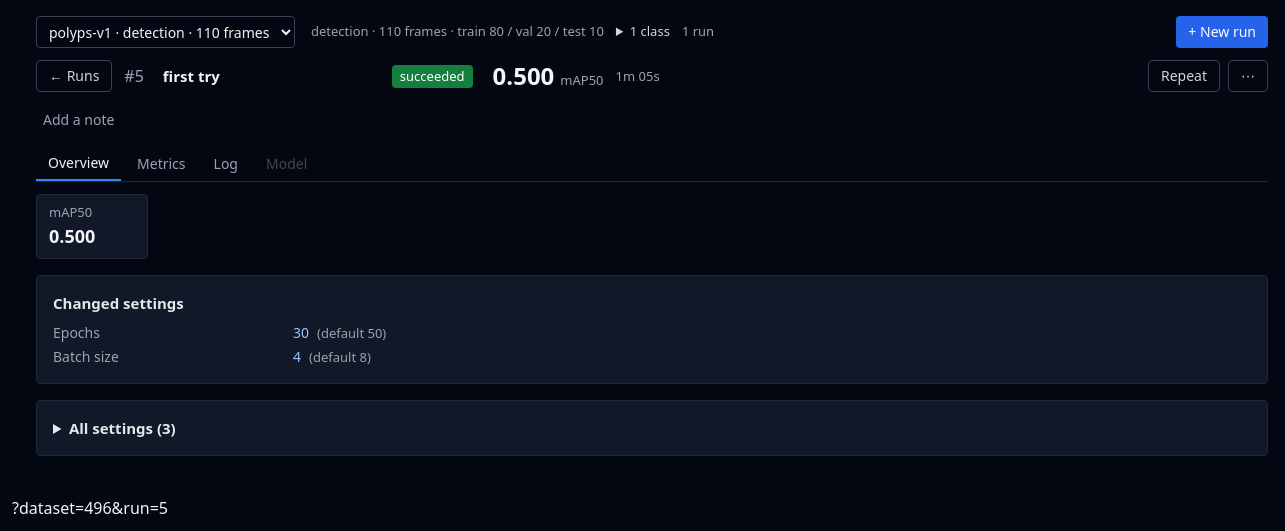
it: TrainPage › deleting a run › deleting the open run clears it from the URL
What coordinates should you click on to do the following:
click the button named "More actions"
I would click on:
 (1248, 76)
Its box is [1228,60,1268,92].
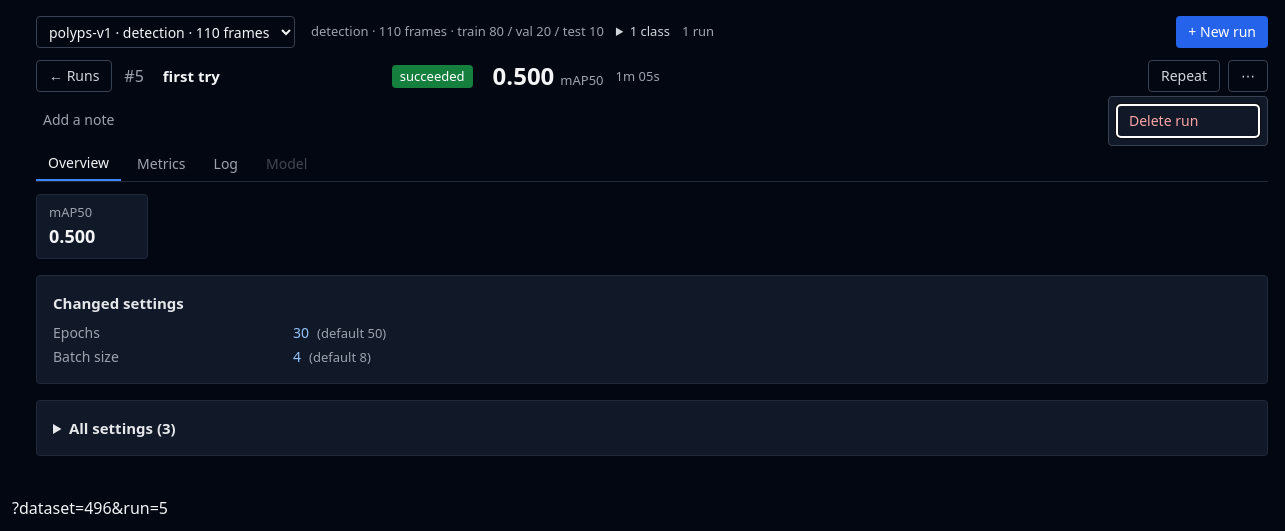
What coordinates should you click on to do the following:
click the menu item with aria-label "Delete run #5"
I would click on:
 (1188, 121)
Its box is [1117,105,1259,137].
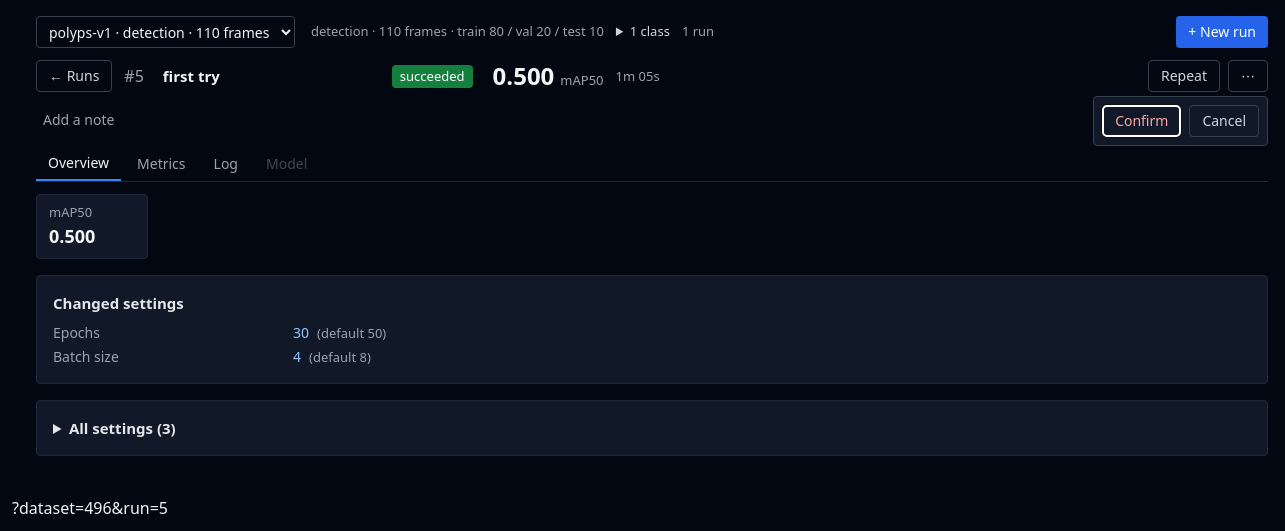
What coordinates should you click on to do the following:
click the menu item with aria-label "Confirm delete run #5"
I would click on:
 (1142, 121)
Its box is [1102,105,1181,137].
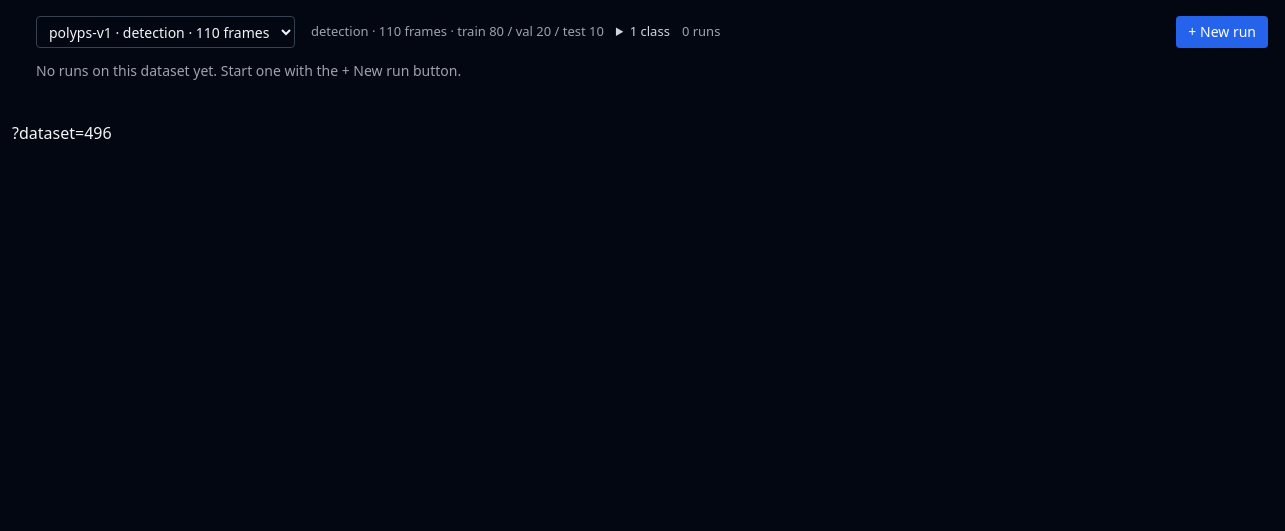
Now the text with test id "where" reads "?dataset=496", box [12,122,112,144]
